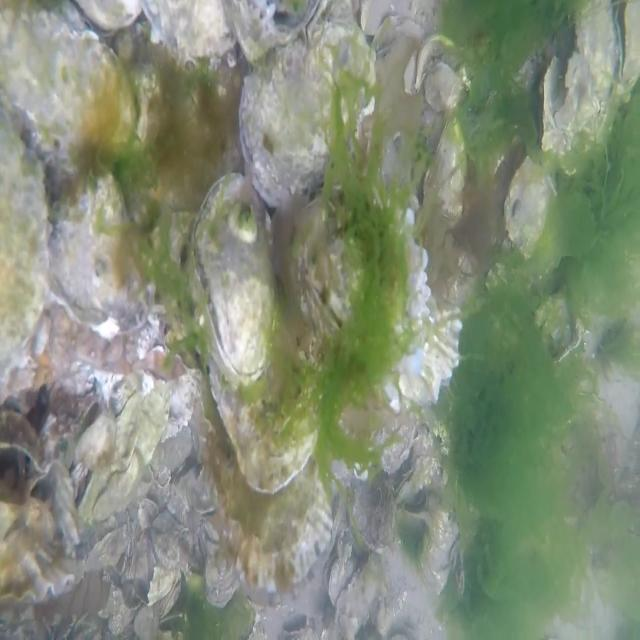Oyster-Closed: (4, 0, 150, 159), (187, 190, 280, 380), (53, 167, 158, 335), (240, 54, 334, 208), (2, 133, 52, 400), (504, 157, 553, 250)
Oyster-Indeterminate: (210, 374, 330, 488), (213, 482, 338, 586), (283, 189, 363, 350), (0, 450, 81, 600)
